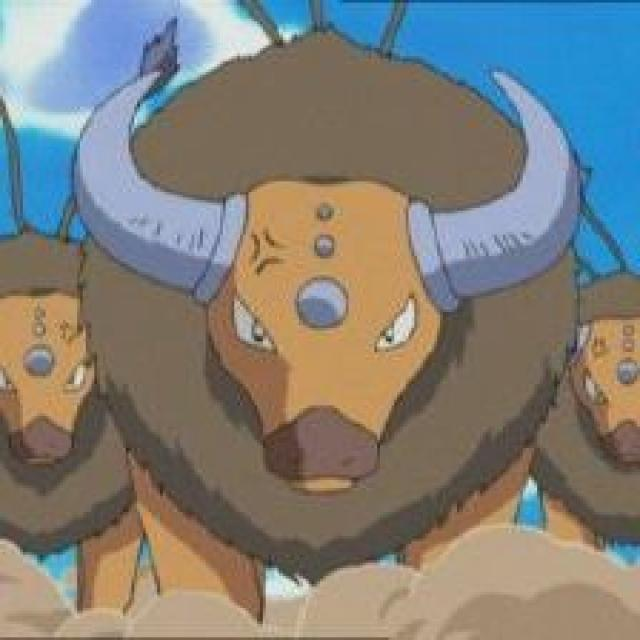Tauros: (80, 26, 577, 546)
